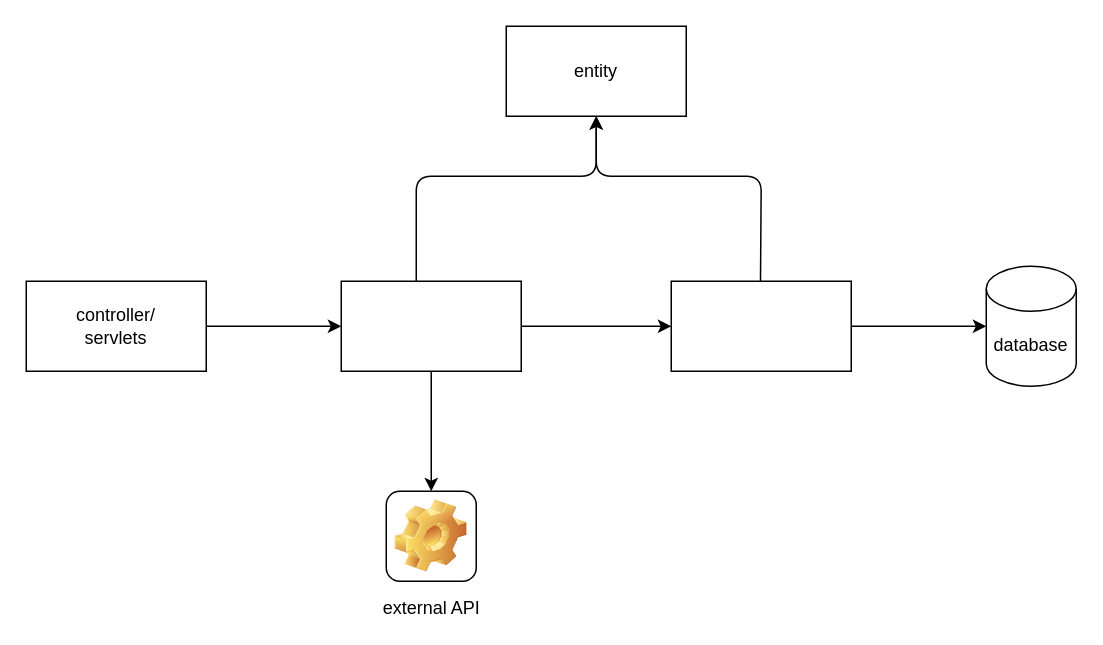
Image size: 1103x645. Some labels were removed from this diagram. The centre of each missing label's shape, as x and y in pixels:
"DAO" goes at (x=760, y=325).
"service" goes at (x=430, y=325).
